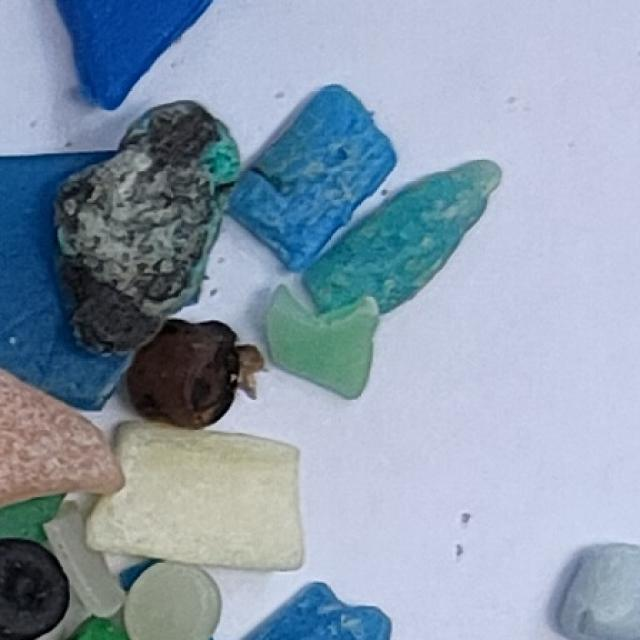beads: (121, 311, 269, 437), (553, 544, 640, 640), (124, 564, 222, 640), (0, 540, 70, 640)
fragments: (0, 76, 298, 375), (293, 134, 530, 350), (83, 415, 322, 586), (215, 75, 412, 279), (0, 154, 130, 411), (55, 0, 211, 110), (0, 369, 123, 505), (255, 280, 384, 402), (36, 487, 129, 630), (246, 584, 393, 639), (0, 494, 61, 545), (71, 619, 129, 639)
